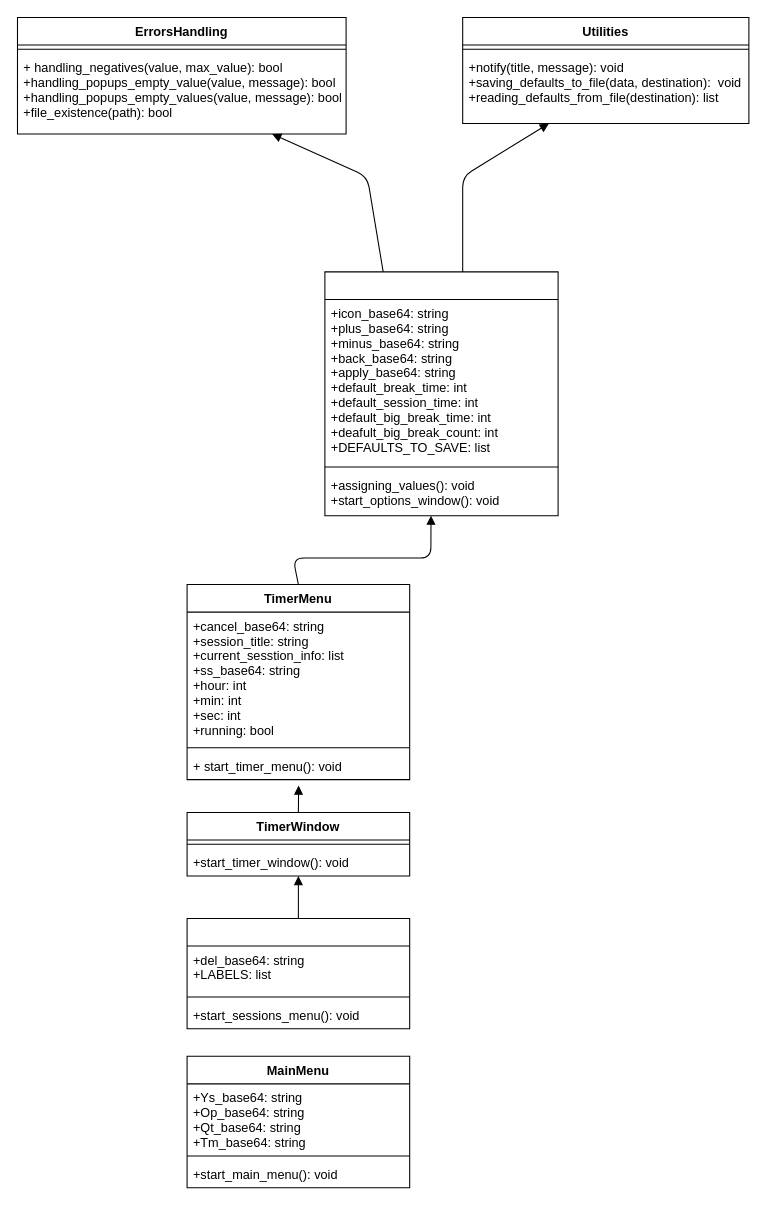
This 766x1205 diagram has some shape labels left out. The shapes that lost their labels are listed below. From the top down, each one's box as (x1, y1, x2, y2) in pixels, then its label:
(324, 271, 558, 516): OptionsMenu
(186, 917, 410, 1029): SessionMenu
